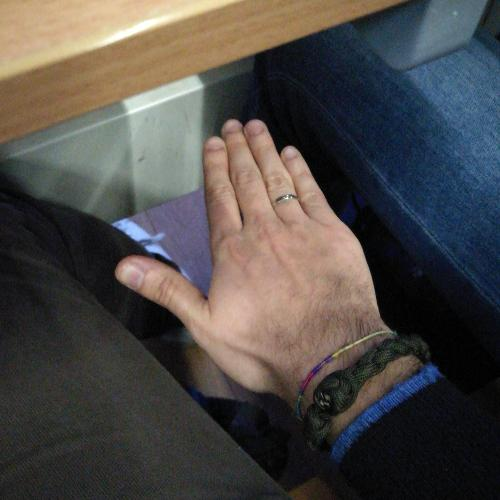paper: (109, 114, 446, 407)
